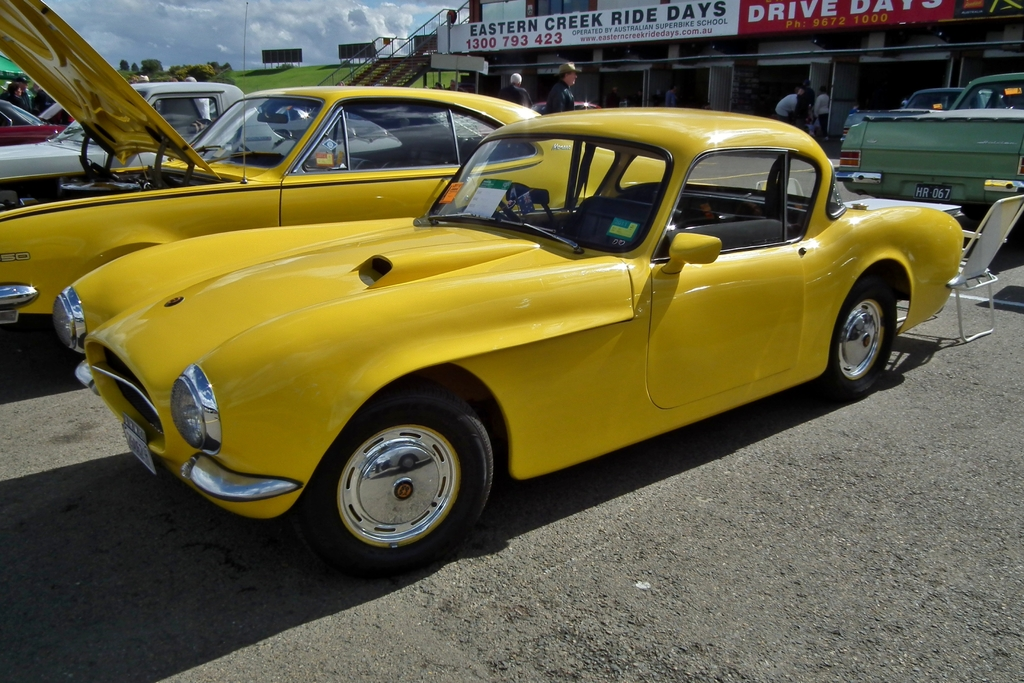Car: (0, 0, 1023, 571)
